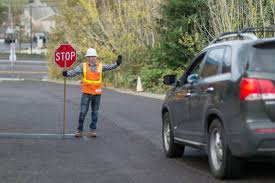stop sign: (52, 44, 77, 68)
